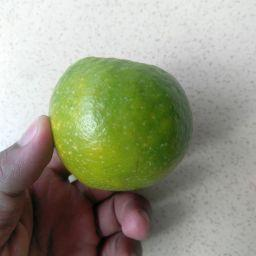Unripe: (49, 56, 193, 193)
